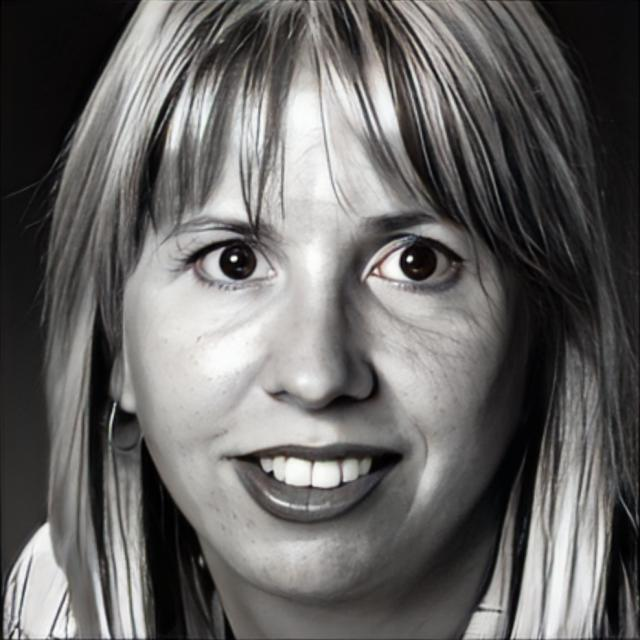happy: (118, 62, 524, 599)
